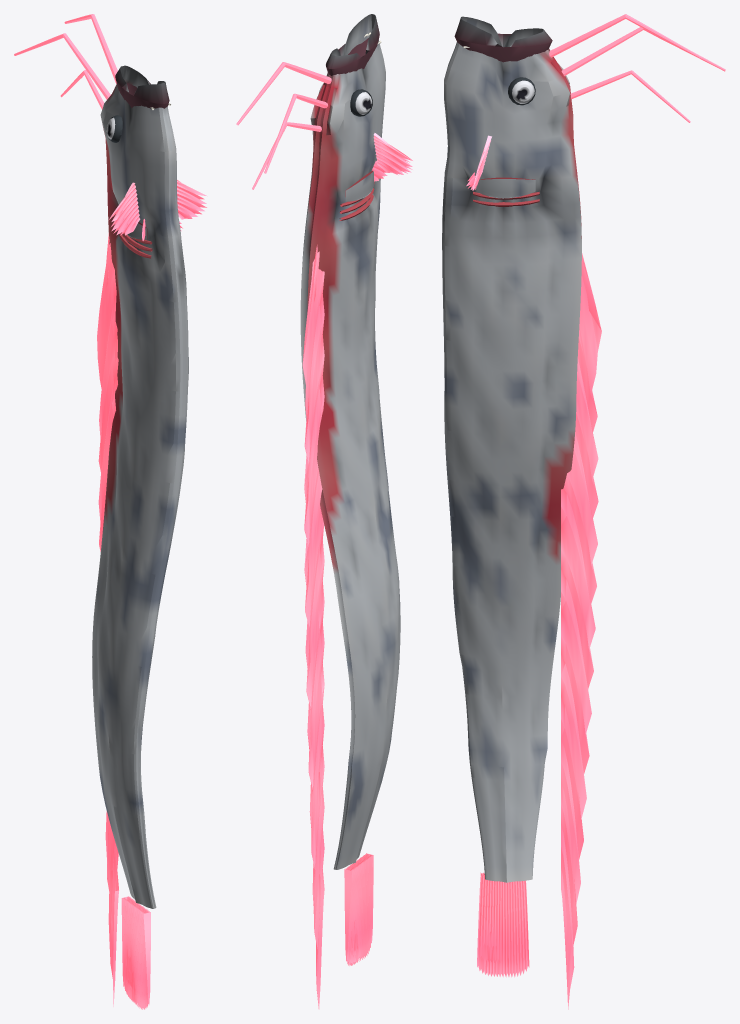
File: fish_oarfish.glb
The picture shows the model from 3 angles, left to right: view 1: azimuth 30°, elevation 25°; view 2: azimuth 150°, elevation 25°; view 3: azimuth 270°, elevation 25°; orthographic projection. The views are drawn at different scales.
Parts seen in each view (by area): view 1: Fish_oarfish; view 2: Fish_oarfish; view 3: Fish_oarfish.
Part boxes in pixels (left/top/right/bottom): Fish_oarfish: left=14, top=14, right=207, bottom=1009; Fish_oarfish: left=236, top=14, right=412, bottom=1009; Fish_oarfish: left=442, top=14, right=725, bottom=1009.
Size of the model in its own units: 0.2021 by 1.89 by 0.4855.
